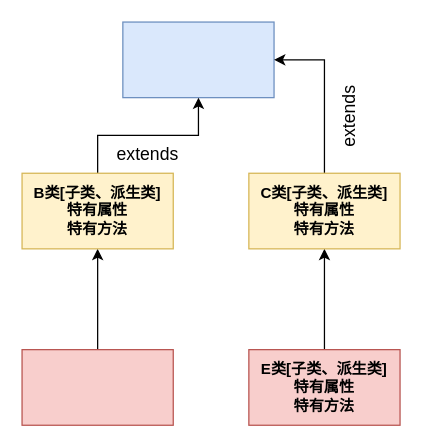
This 422x447 diagram has some shape labels left out. The centre of each missing label's shape, as x and y in pixels:
"A类[父类、基类] 共用属性 共有方法" belongs at pixel 198 59.
"D类[子类、派生类] 特有属性 特有方法" belongs at pixel 97 386.
